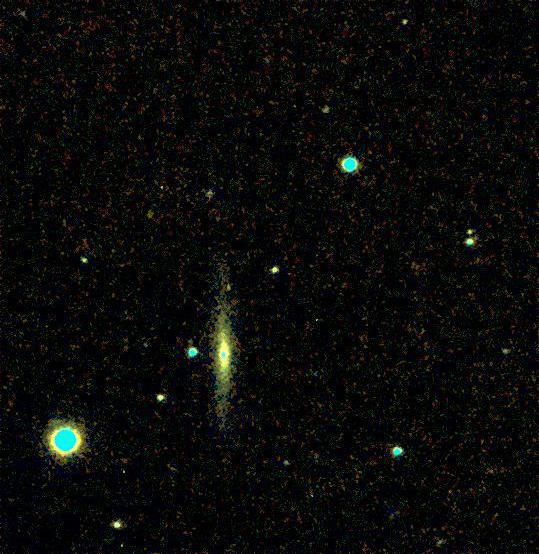star: (213, 266, 243, 296)
